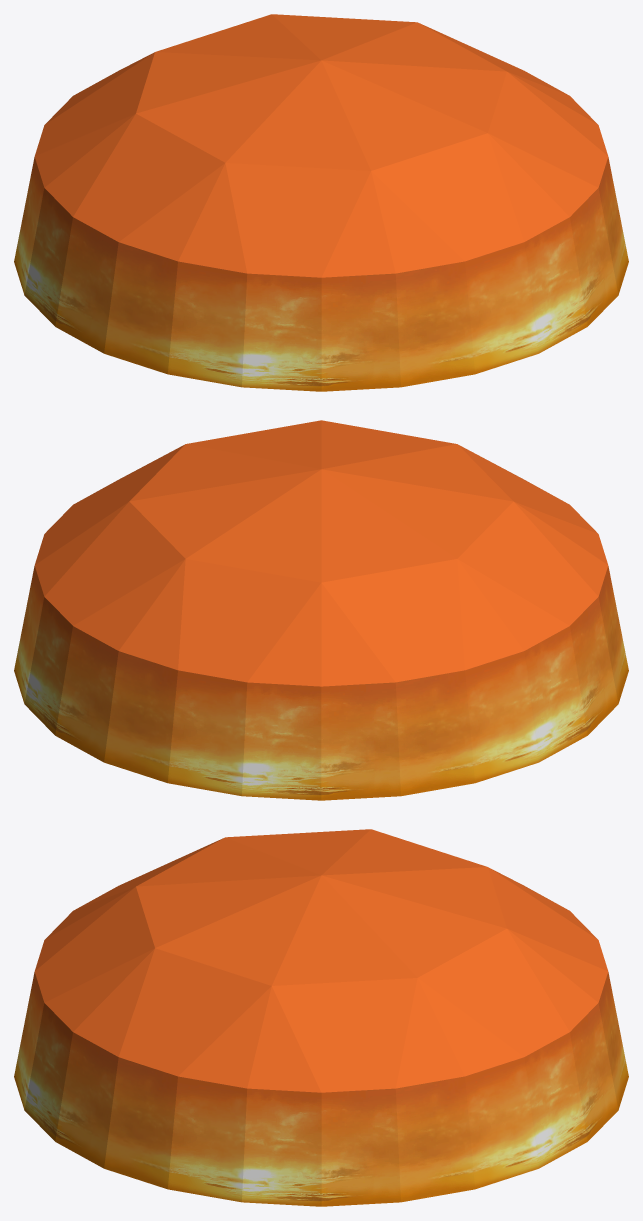
File: Seaside Hill 11.fbx
3 renders of one model, top to bottom at view 1: azimuth 30°, elevation 25°; view 2: azimuth 150°, elevation 25°; view 3: azimuth 270°, elevation 25°, orthographic.
Parts seen in each view (by area): view 1: Seaside hill 11; view 2: Seaside hill 11; view 3: Seaside hill 11.
Part boxes in pixels (bbox=[...]): Seaside hill 11: bbox=[14, 14, 628, 391]; Seaside hill 11: bbox=[14, 420, 628, 800]; Seaside hill 11: bbox=[14, 829, 628, 1206].
Bounding box in the file's own units: 10000000 × 3639154 × 9999999.
